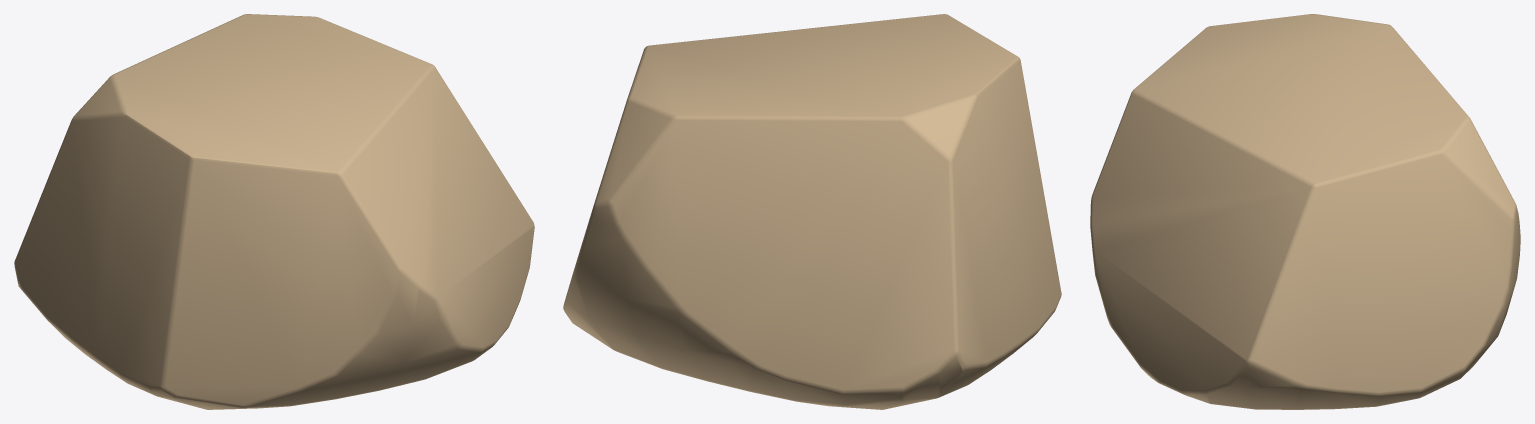
The model's file is rock_cobble_02.glb.
The picture shows the model from 3 angles, left to right: view 1: azimuth 30°, elevation 25°; view 2: azimuth 150°, elevation 25°; view 3: azimuth 270°, elevation 25°; orthographic projection. The views are drawn at different scales.
Visible parts, largest first — view 1: rock_cobble_02; view 2: rock_cobble_02; view 3: rock_cobble_02.
Boxes of the visible parts, x1,y1,x2,y2 form: rock_cobble_02: [14, 14, 534, 409]; rock_cobble_02: [563, 14, 1061, 409]; rock_cobble_02: [1090, 14, 1520, 409].
Bounding box in the file's own units: 2.5 × 1.6 × 2.29.
